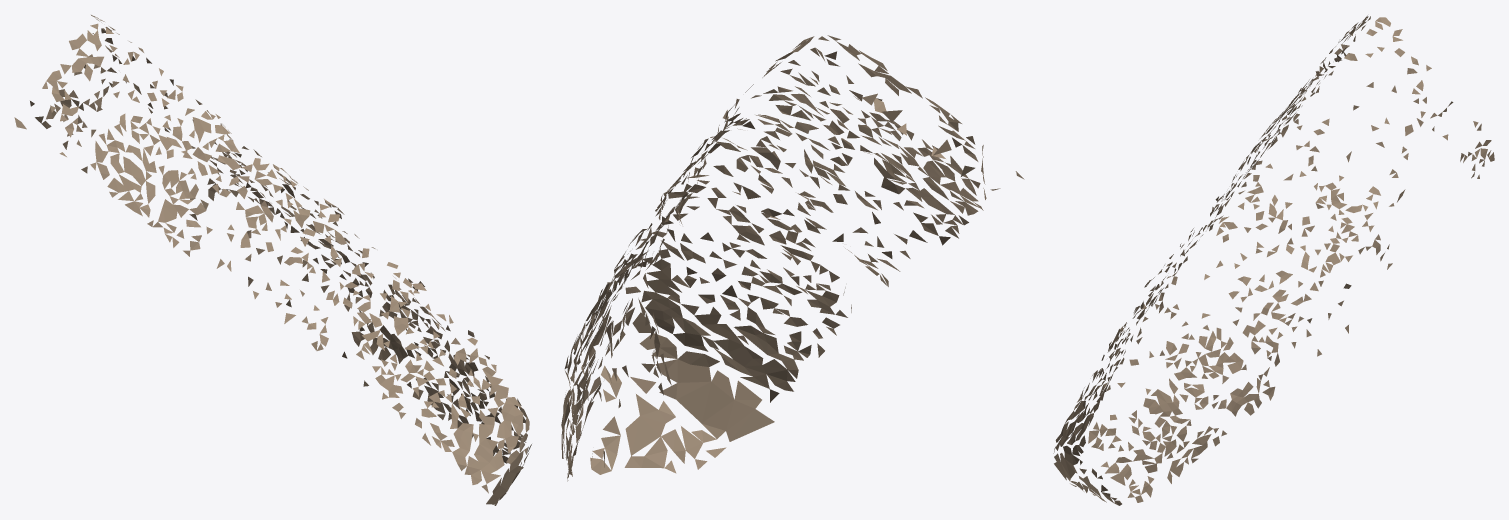
File: rocky_dedo_derecho_1.obj
3 renders of one model, left to right at view 1: azimuth 30°, elevation 25°; view 2: azimuth 150°, elevation 25°; view 3: azimuth 270°, elevation 25°, orthographic. The views are drawn at different scales.
Size of the model in its own units: 0.141 by 0.1518 by 0.1619.
Materials: 1 (1 with a texture image).
